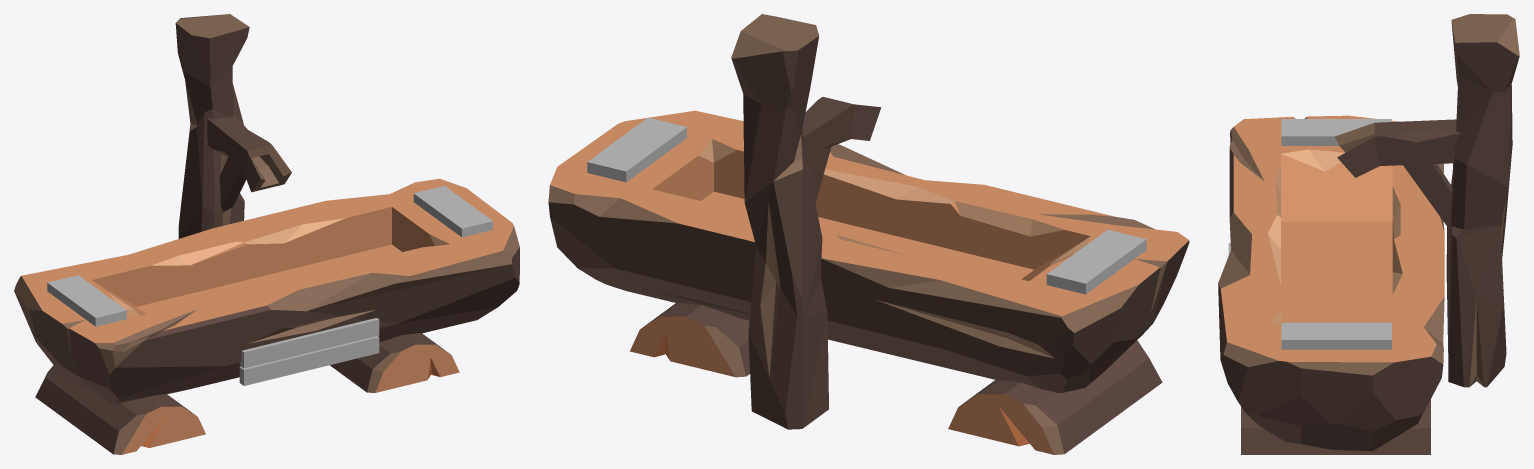
File: Watering_Place.fbx
3 renders of one model, left to right at view 1: azimuth 30°, elevation 25°; view 2: azimuth 150°, elevation 25°; view 3: azimuth 270°, elevation 25°, orthographic. The views are drawn at different scales.
Parts seen in each view (by area): view 1: Watering_Place; view 2: Watering_Place; view 3: Watering_Place.
Part boxes in pixels (x1=…): Watering_Place: x1=14, y1=14, x2=519, y2=454; Watering_Place: x1=548, y1=14, x2=1189, y2=454; Watering_Place: x1=1218, y1=14, x2=1519, y2=454.
Bounding box in the file's own units: 56.33 × 36.57 × 28.77.
